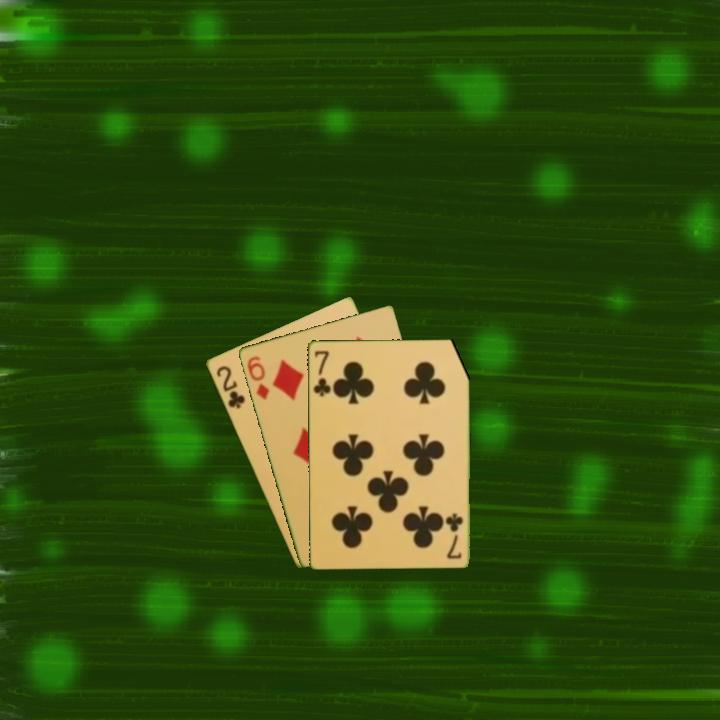2c: (212, 362, 248, 412)
6d: (243, 352, 272, 402)
7c: (309, 346, 334, 399), (444, 510, 466, 561)
